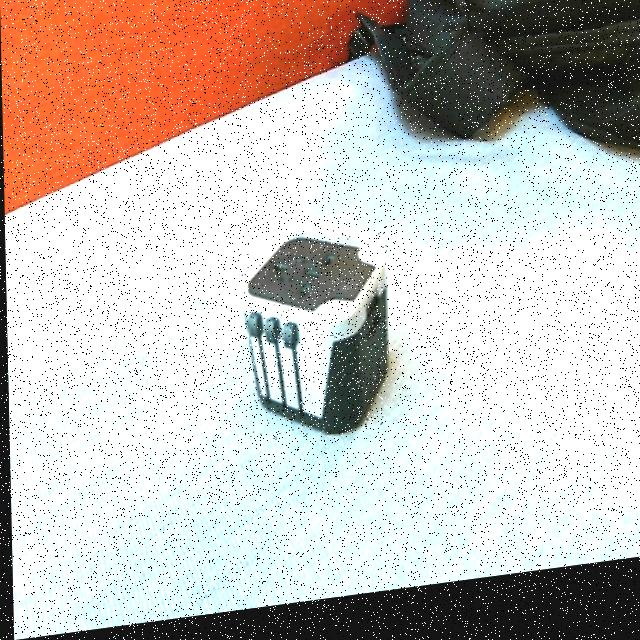adapter: (239, 233, 388, 452)
